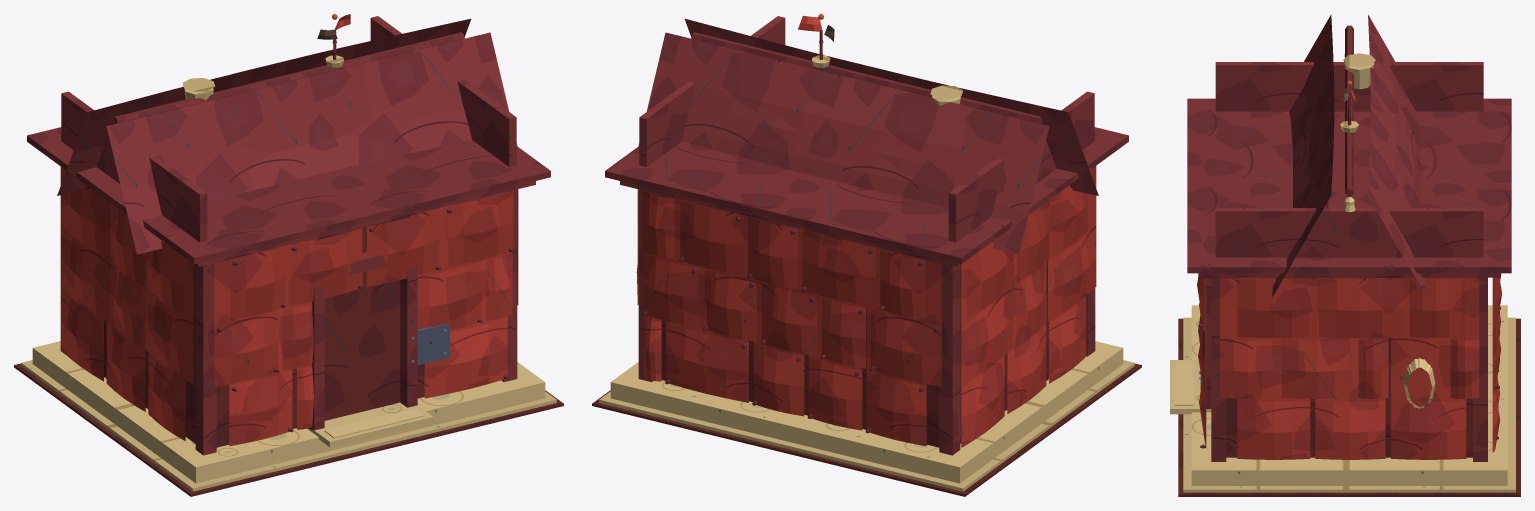
The model's file is env_hut_residential_a.glb.
3 renders of one model, left to right at view 1: azimuth 30°, elevation 25°; view 2: azimuth 150°, elevation 25°; view 3: azimuth 270°, elevation 25°, orthographic. The views are drawn at different scales.
Visible parts, largest first — view 1: lod0__hut_a_shell, lod1__hut_a_shell, lod0__hut_a_clay, lod2__hut_a_shell, lod0__hut_a_alloy; view 2: lod0__hut_a_shell, lod0__hut_a_clay, lod1__hut_a_shell, lod2__hut_a_shell; view 3: lod0__hut_a_shell, lod0__hut_a_clay, lod1__hut_a_shell, lod2__hut_a_shell.
Part boxes in pixels (x1,y1,x2,y2): lod0__hut_a_shell: (14, 14, 563, 496); lod1__hut_a_shell: (57, 19, 518, 385); lod0__hut_a_clay: (21, 55, 556, 491); lod2__hut_a_shell: (60, 166, 507, 384); lod0__hut_a_alloy: (405, 323, 449, 366); lod0__hut_a_shell: (592, 14, 1141, 496); lod0__hut_a_clay: (599, 55, 1134, 491); lod1__hut_a_shell: (637, 19, 1096, 387); lod2__hut_a_shell: (644, 190, 1085, 385); lod0__hut_a_shell: (1178, 14, 1520, 496); lod0__hut_a_clay: (1170, 53, 1515, 492); lod1__hut_a_shell: (1204, 14, 1494, 401); lod2__hut_a_shell: (1205, 277, 1494, 401).
Bounding box in the file's own units: 5.2 × 4.68 × 4.25.
Materials: 3 (2 with a texture image).
